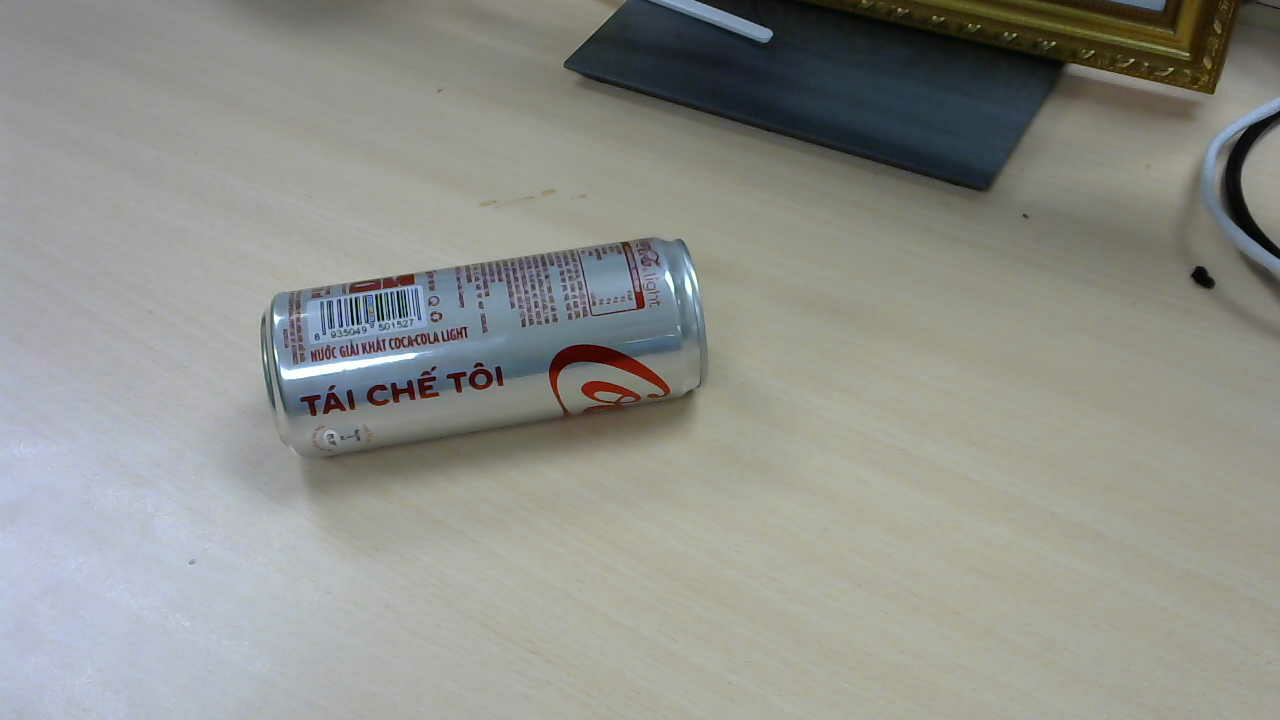Coca_Cola: (266, 240, 713, 465)
